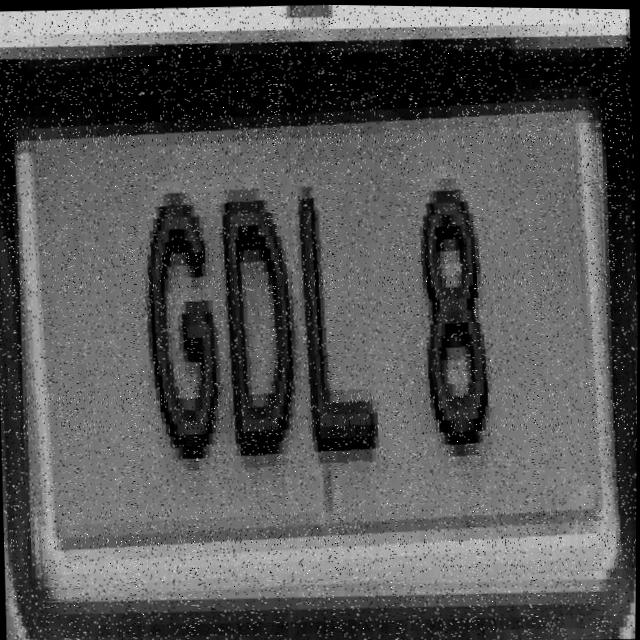LicensePlate: (12, 46, 623, 603)
